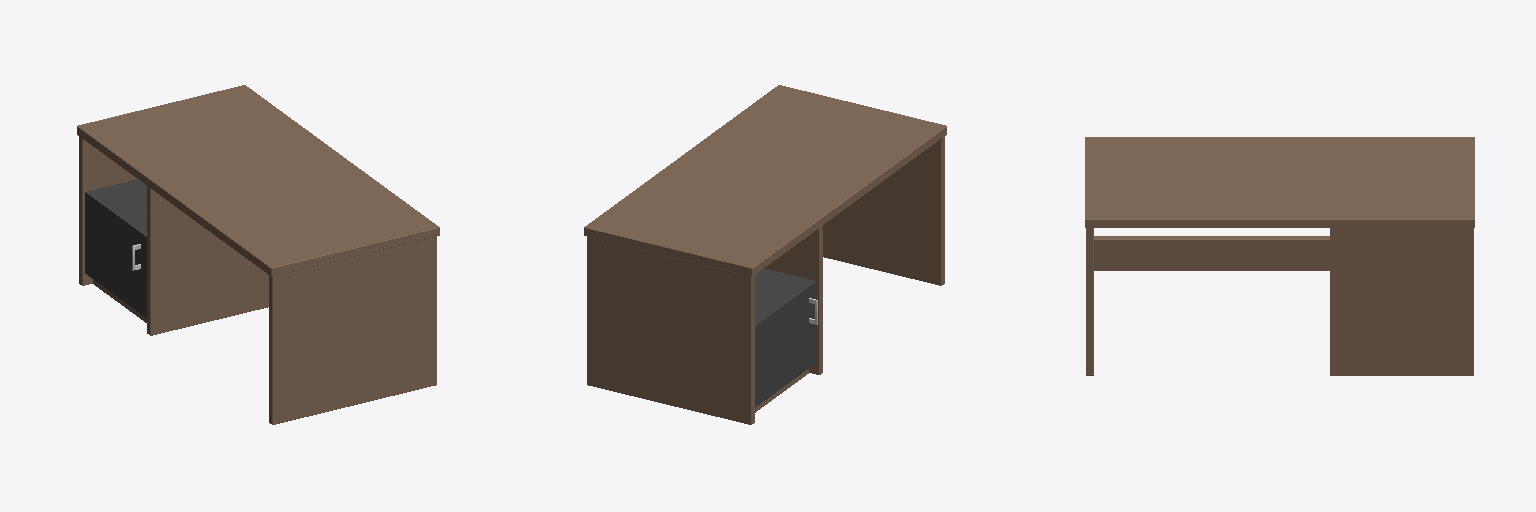
3 renders of one model, left to right at view 1: azimuth 30°, elevation 25°; view 2: azimuth 150°, elevation 25°; view 3: azimuth 270°, elevation 25°, orthographic.
Parts seen in each view (by area): view 1: polySurface18; view 2: polySurface18; view 3: polySurface18.
Boxes of the visible parts, <box> form: polySurface18: <box>77,85,439,424</box>; polySurface18: <box>584,85,946,424</box>; polySurface18: <box>1085,137,1474,375</box>.
Bounding box in the file's own units: 1 × 0.8726 × 1.95.
3 materials, 3 textured.